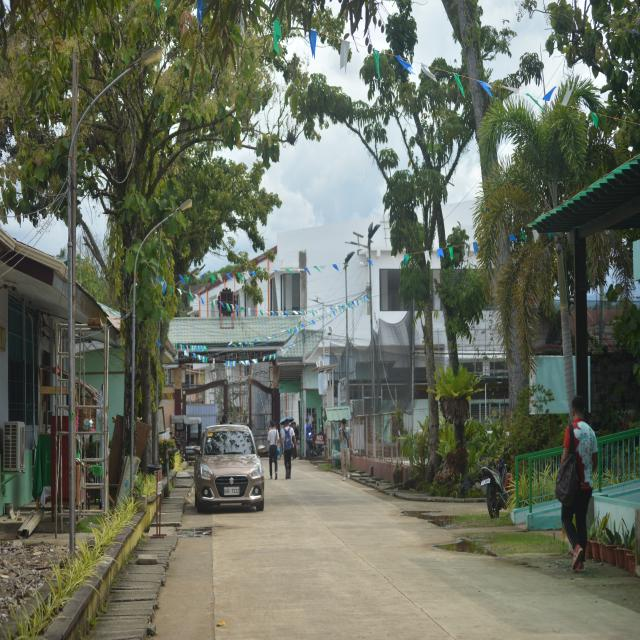person: (561, 396, 597, 570), (339, 419, 352, 480), (282, 423, 296, 479), (268, 421, 279, 479)
